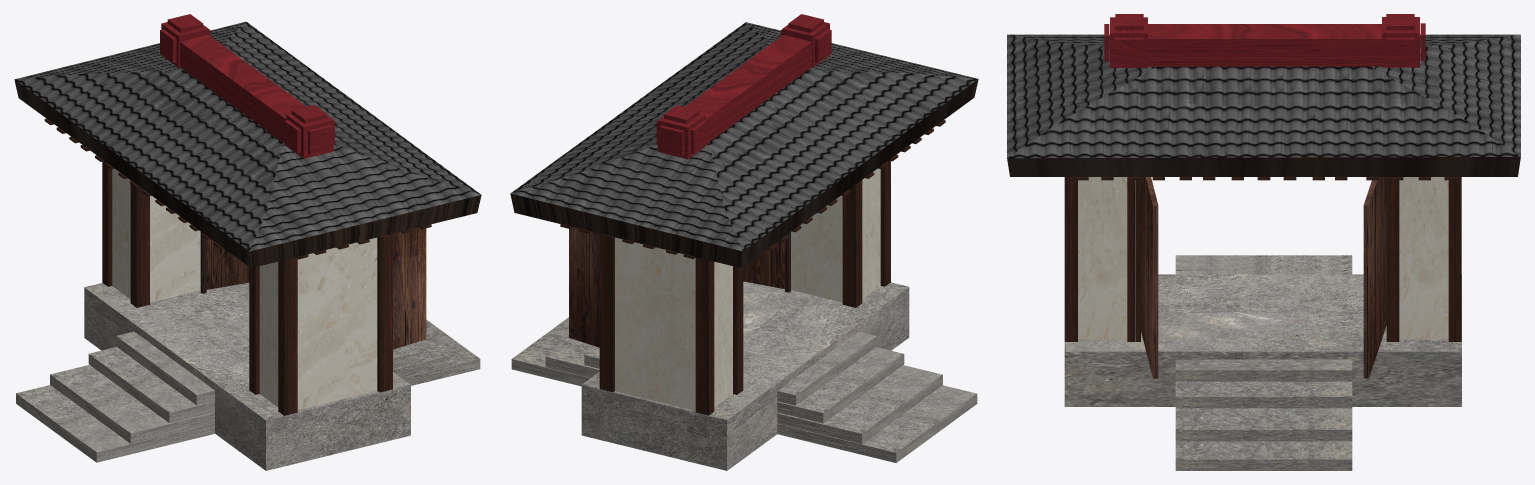
File: hideout_maingate.fbx
The picture shows the model from 3 angles, left to right: view 1: azimuth 30°, elevation 25°; view 2: azimuth 150°, elevation 25°; view 3: azimuth 270°, elevation 25°; orthographic projection. The views are drawn at different scales.
Parts seen in each view (by area): view 1: pCube3, pCube52, pCube4, pCube53, pCube2, pCube54, pCube5, pCube55, pCube57, pCube56, pCube26, pCube27 (+8 smaller); view 2: pCube3, pCube52, pCube2, pCube53, pCube4, pCube54, pCube5, pCube55, pCube58, pCube20, pCube56, pCube21 (+9 smaller); view 3: pCube3, pCube52, pCube5, pCube4, pCube2, pCube54, pCube53, pCube55, pCube56, pCube58, pCube57, pCube6 (×2) (+10 smaller).
Part boxes in pixels (<box>): pCube3: <box>14,21,481,267</box>; pCube52: <box>84,282,410,470</box>; pCube4: <box>259,237,377,409</box>; pCube53: <box>16,319,480,462</box>; pCube2: <box>112,168,200,302</box>; pCube54: <box>50,340,445,443</box>; pCube5: <box>180,35,305,142</box>; pCube55: <box>88,347,407,422</box>; pCube57: <box>393,227,426,349</box>; pCube56: <box>116,331,214,405</box>; pCube26: <box>282,257,297,415</box>; pCube27: <box>377,233,392,392</box>; pCube3: <box>510,22,978,268</box>; pCube52: <box>581,281,909,470</box>; pCube2: <box>615,237,732,410</box>; pCube53: <box>511,317,977,462</box>; pCube4: <box>791,168,880,302</box>; pCube54: <box>545,338,942,443</box>; pCube5: <box>685,35,811,143</box>; pCube55: <box>584,346,904,423</box>; pCube58: <box>569,227,599,347</box>; pCube20: <box>695,257,711,415</box>; pCube56: <box>777,331,876,405</box>; pCube21: <box>599,234,614,392</box>; pCube3: <box>1007,34,1520,176</box>; pCube52: <box>1064,274,1461,406</box>; pCube5: <box>1148,24,1381,66</box>; pCube4: <box>1078,177,1135,339</box>; pCube2: <box>1399,177,1448,339</box>; pCube54: <box>1175,262,1352,441</box>; pCube53: <box>1175,255,1352,470</box>; pCube55: <box>1175,270,1352,408</box>; pCube56: <box>1175,272,1352,381</box>; pCube58: <box>1363,177,1386,378</box>; pCube57: <box>1141,177,1158,378</box>; pCube6 (×2): <box>1110,17,1419,67</box>.
Bounding box in the file's own units: 15.93 × 12.66 × 16.91.
8 materials, 7 textured.
